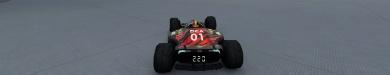Car: (152, 15, 243, 72)
